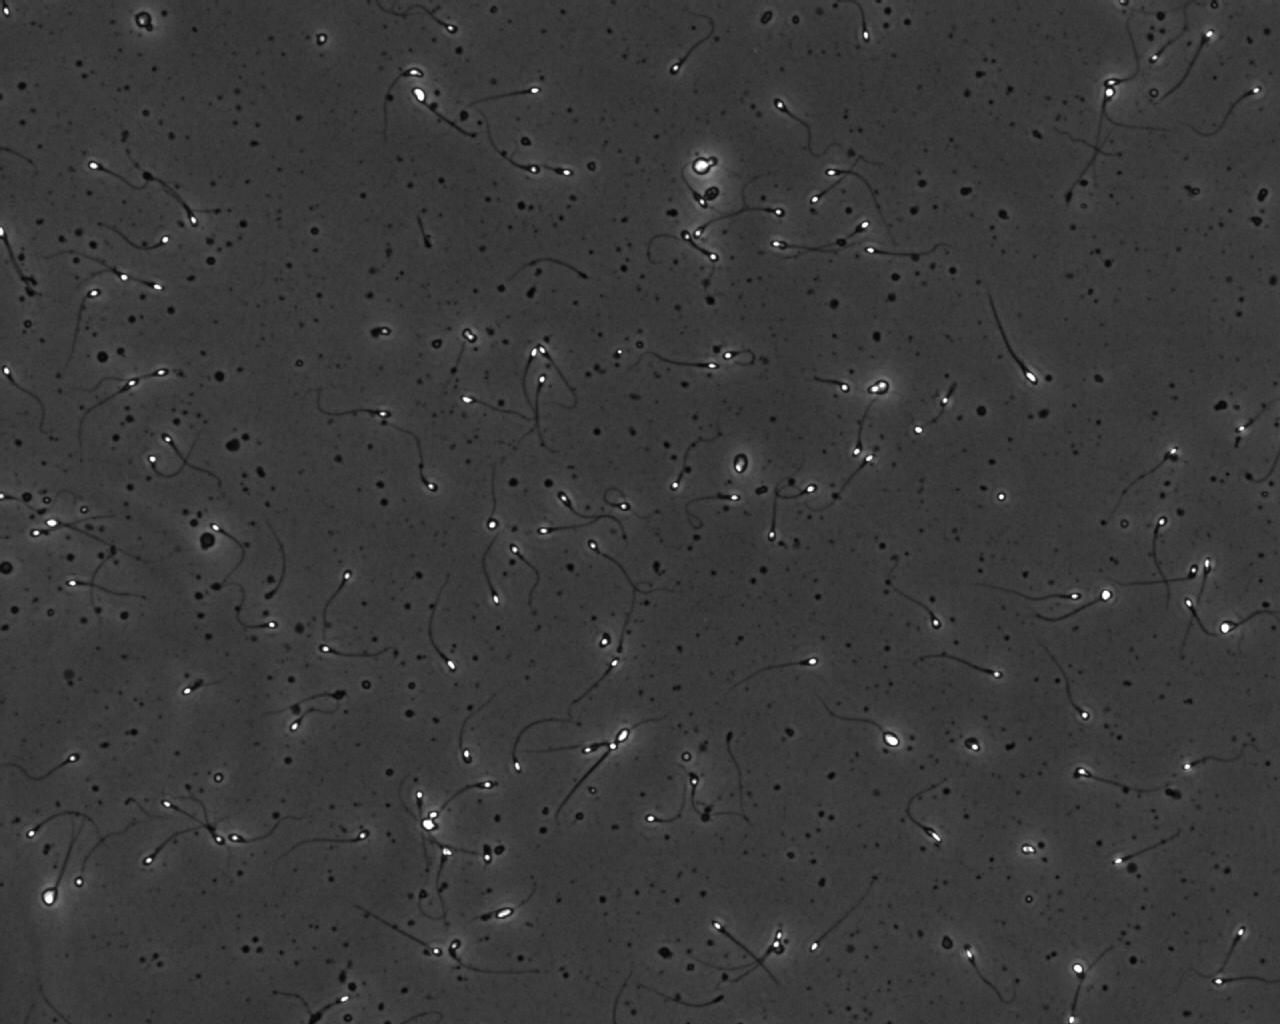cell: (688, 152, 715, 179), (729, 449, 752, 478)
